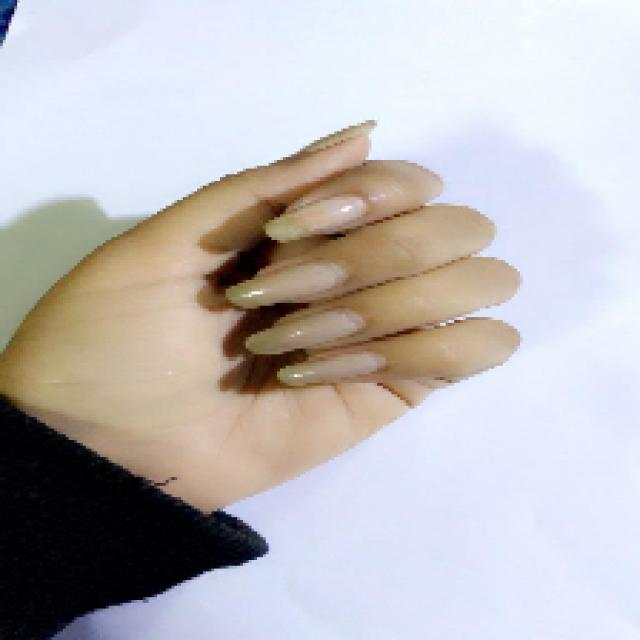Nail: (226, 263, 348, 308), (246, 309, 365, 354), (266, 196, 365, 241), (278, 352, 385, 386), (295, 120, 376, 154)
